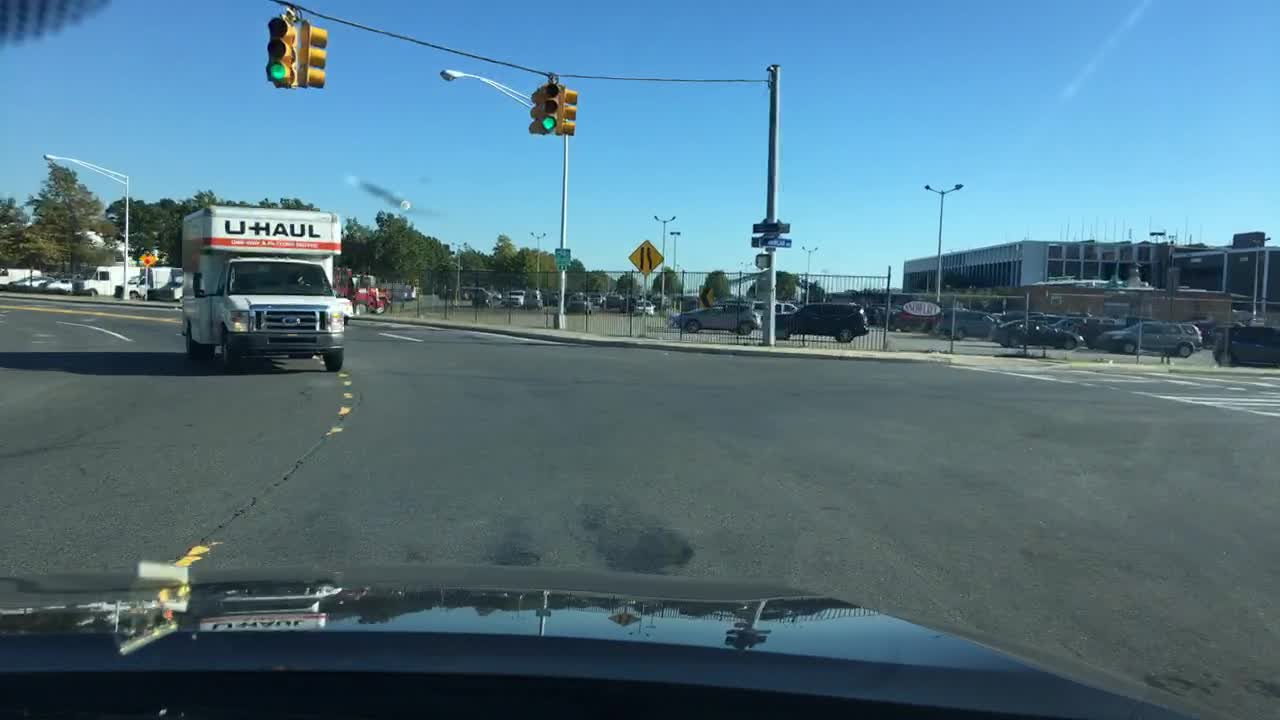bus: (377, 275, 420, 301)
car: (1091, 317, 1206, 358), (775, 299, 871, 343), (1209, 320, 1278, 367), (672, 300, 759, 336), (334, 265, 391, 313), (992, 318, 1080, 349), (1079, 314, 1154, 349), (933, 305, 1000, 340), (1205, 320, 1248, 349), (891, 309, 943, 332), (0, 265, 46, 288), (863, 303, 903, 329), (750, 297, 798, 317), (991, 306, 1043, 324), (332, 288, 354, 326), (1044, 311, 1092, 327), (562, 288, 591, 314), (8, 276, 57, 289), (520, 287, 544, 311), (502, 287, 525, 309), (455, 286, 493, 299), (46, 277, 74, 293), (633, 299, 657, 317), (470, 287, 492, 306), (585, 288, 608, 306), (620, 294, 637, 315), (545, 287, 560, 308), (605, 291, 624, 305), (487, 288, 504, 300)
traffic light: (264, 19, 298, 88), (298, 18, 331, 89), (538, 81, 562, 131), (560, 87, 578, 137), (526, 88, 536, 134), (755, 254, 769, 273)
traffic sign: (624, 235, 665, 277), (136, 250, 158, 270), (751, 222, 791, 232), (554, 247, 570, 271), (762, 237, 791, 248), (750, 236, 762, 249)
truck: (178, 201, 345, 374), (75, 260, 151, 296), (121, 265, 181, 297), (166, 268, 182, 302)
